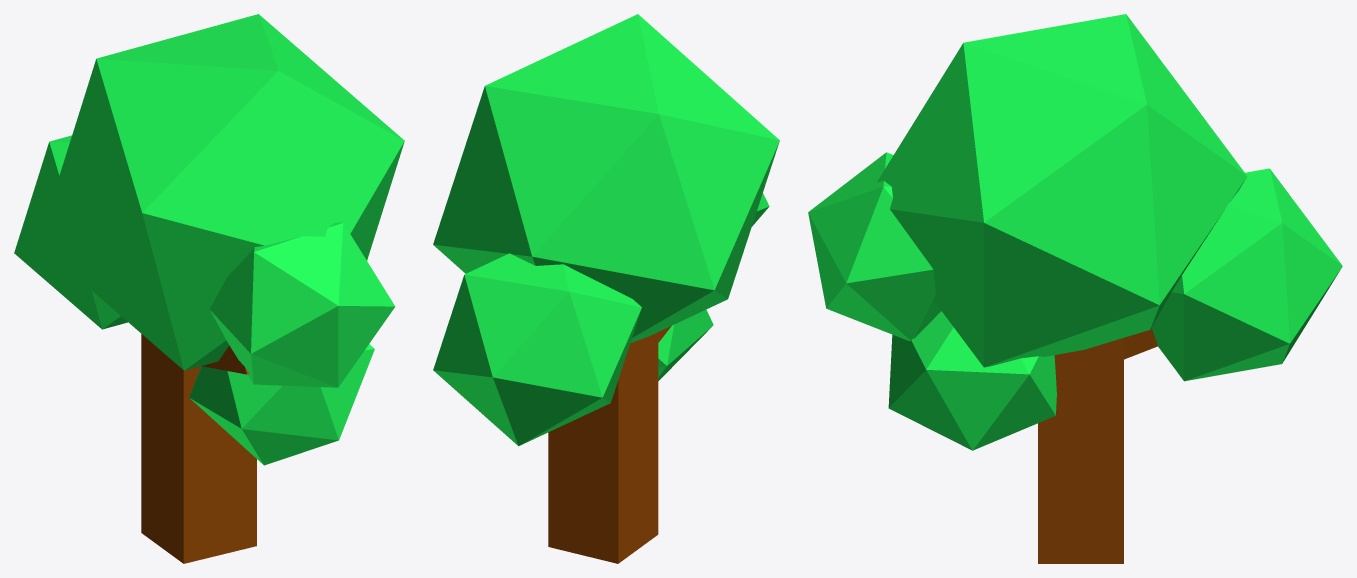
File: wood8.fbx
3 views of the same model, side by side, from view 1: azimuth 30°, elevation 25°; view 2: azimuth 150°, elevation 25°; view 3: azimuth 270°, elevation 25° (orthographic). The views are drawn at different scales.
Parts seen in each view (by area): view 1: wood.007; view 2: wood.007; view 3: wood.007.
Part boxes in pixels (x1,y1,x2,y2): wood.007: (14, 14, 404, 563); wood.007: (433, 14, 779, 563); wood.007: (808, 14, 1342, 563).
Bounding box in the file's own units: 169 × 275 × 259.
